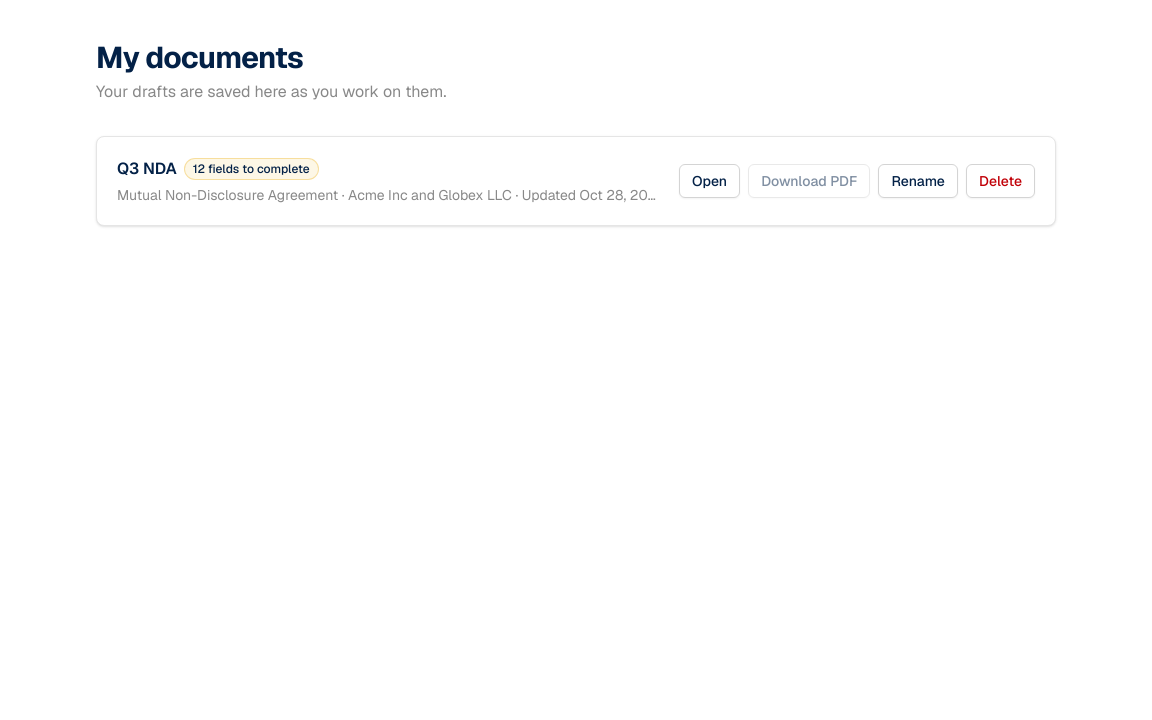
Test: renaming a document › uses the new name when deleting
The image size is (1152, 720).
What coordinates should you click on to do the following:
click the button "Rename"
I would click on:
 (918, 181)
Its box is [878,164,958,198].
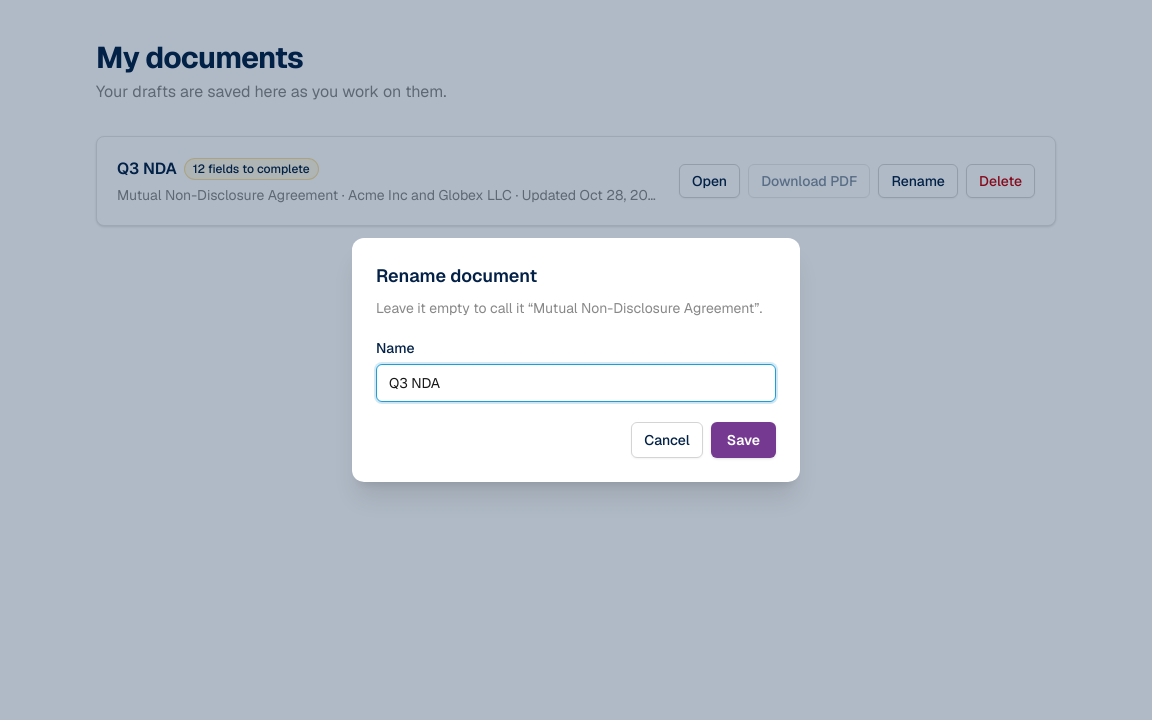
What coordinates should you click on to do the following:
click the button "Cancel"
I would click on:
 (667, 440)
Its box is [631,422,703,458].
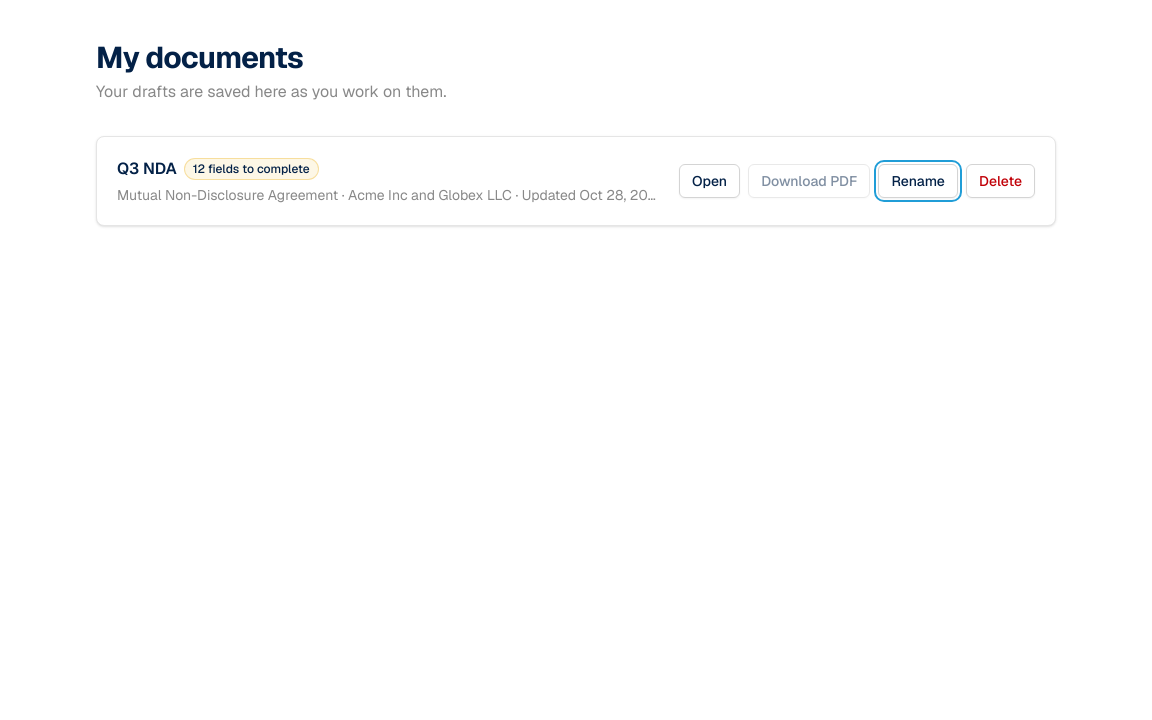
What coordinates should you click on to do the following:
click the button "Delete"
I would click on:
 (1000, 181)
Its box is [966,164,1035,198].
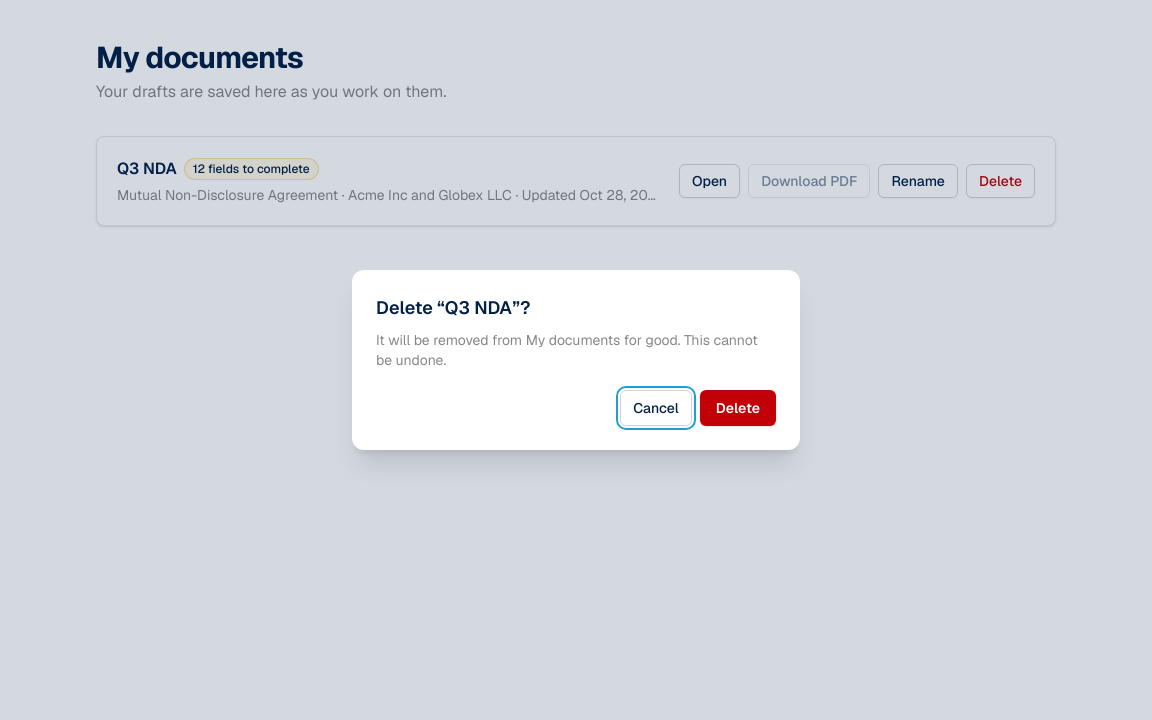
Expected: the dialog "Delete “Q3 NDA”?" is shown, [352,270,800,450]
